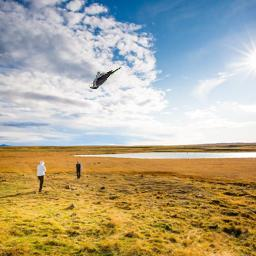Cuckoo: (89, 65, 121, 89)
